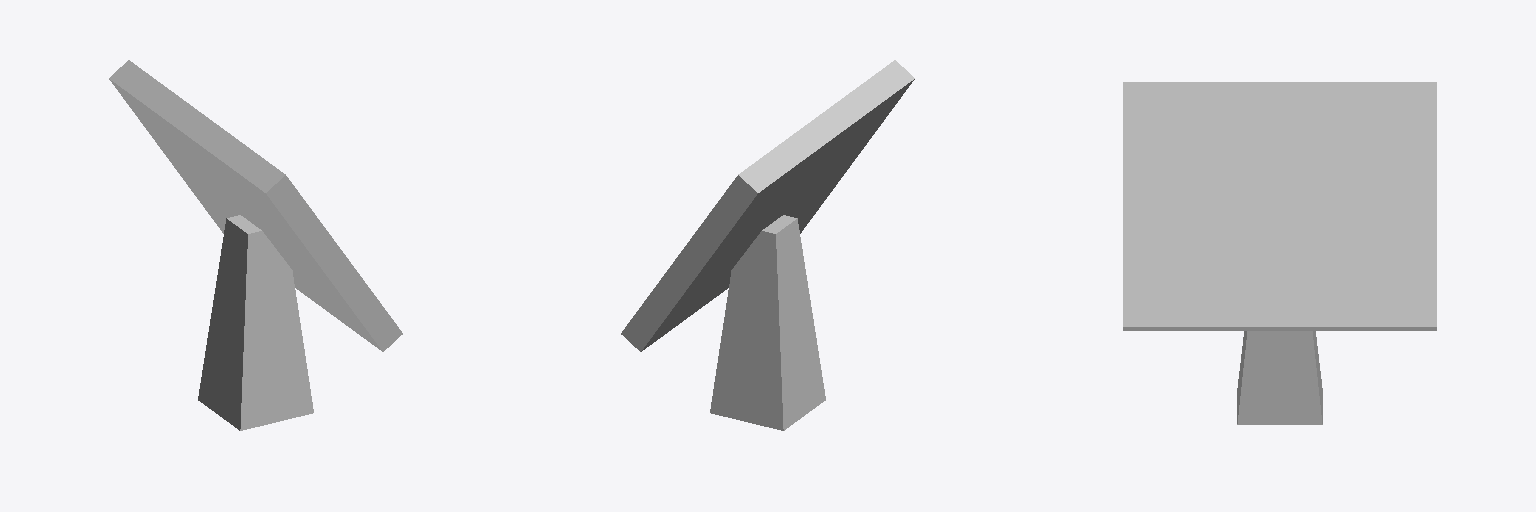
Rendered from solarS.obj.
The picture shows the model from 3 angles: view 1: azimuth 30°, elevation 25°; view 2: azimuth 150°, elevation 25°; view 3: azimuth 270°, elevation 25°; orthographic projection.
Parts seen in each view (by area): view 1: Cube.011; view 2: Cube.011; view 3: Cube.011.
Part boxes in pixels (left/top/right/bottom): Cube.011: left=109, top=60, right=402, bottom=430; Cube.011: left=621, top=60, right=914, bottom=430; Cube.011: left=1123, top=82, right=1436, bottom=424.
Size of the model in its own units: 1.36 by 2.85 by 2.7.